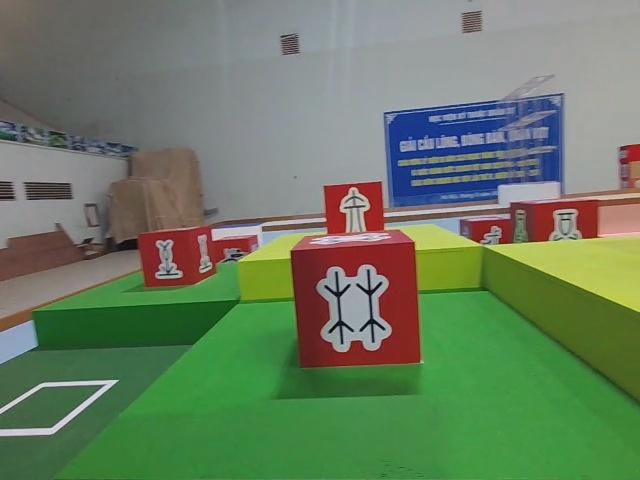R1: (210, 232, 260, 267)
R2 Fake: (323, 181, 383, 234)
R2 Real: (290, 227, 421, 370), (136, 222, 215, 289), (510, 198, 601, 256)
